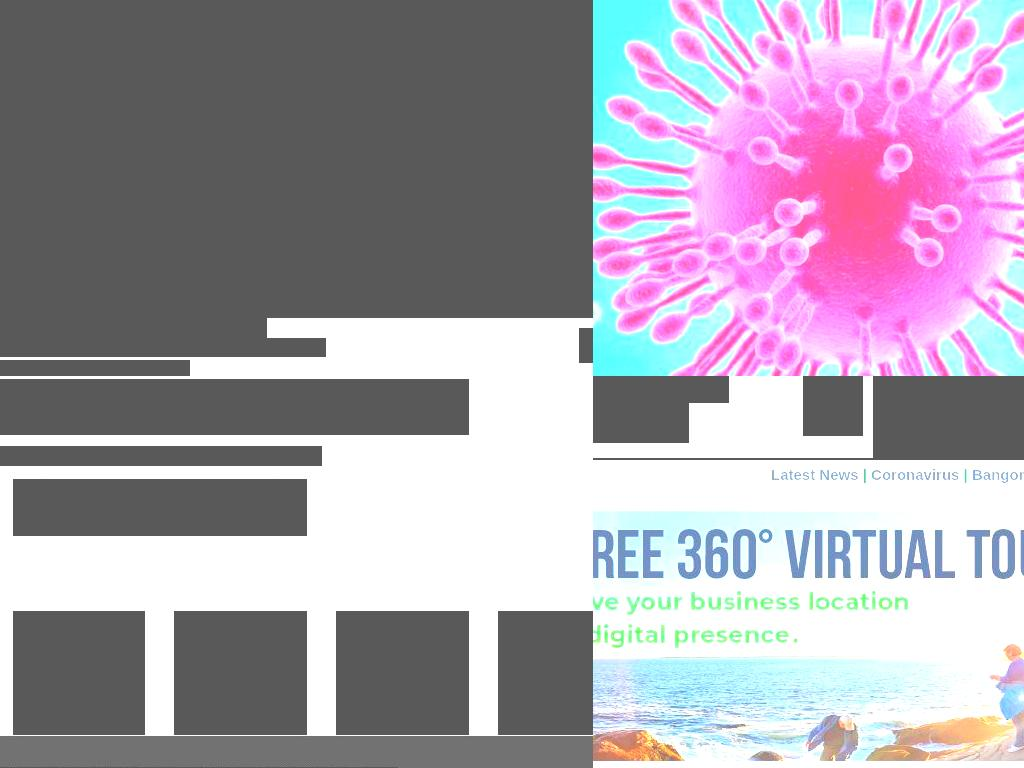button: (174, 611, 307, 735), (336, 611, 469, 735), (13, 611, 145, 735), (498, 611, 593, 735), (36, 149, 188, 204), (0, 360, 190, 376), (632, 376, 729, 403), (873, 416, 1024, 433), (594, 376, 633, 403)
field: (0, 379, 469, 435)
heading: (873, 376, 1024, 458), (0, 309, 267, 340)
iframe: (593, 511, 1024, 761), (593, 376, 689, 443)
image: (0, 0, 593, 247), (803, 376, 863, 436), (0, 360, 190, 376), (388, 386, 457, 428), (579, 328, 593, 363)
label: (13, 479, 307, 536)
link: (125, 338, 210, 357), (239, 338, 322, 357), (871, 466, 961, 483), (770, 466, 859, 483), (971, 466, 1024, 483)
text: (0, 24, 436, 87), (0, 446, 322, 466), (61, 164, 163, 188), (0, 338, 126, 357), (209, 338, 240, 357), (862, 460, 867, 490), (963, 460, 968, 490), (321, 338, 326, 357)
